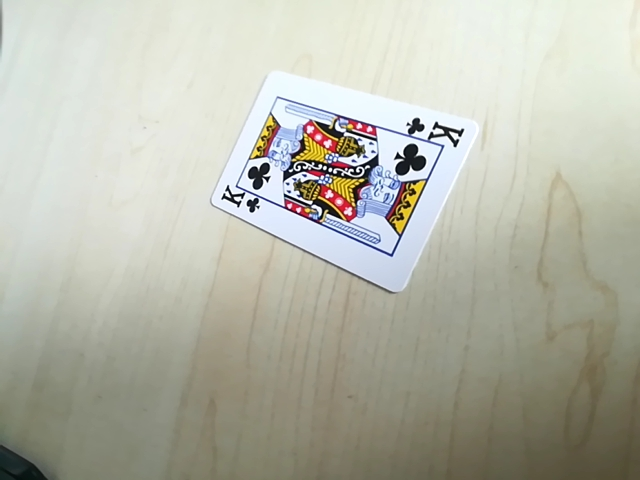mh k: (402, 117, 469, 145), (215, 185, 259, 216)
